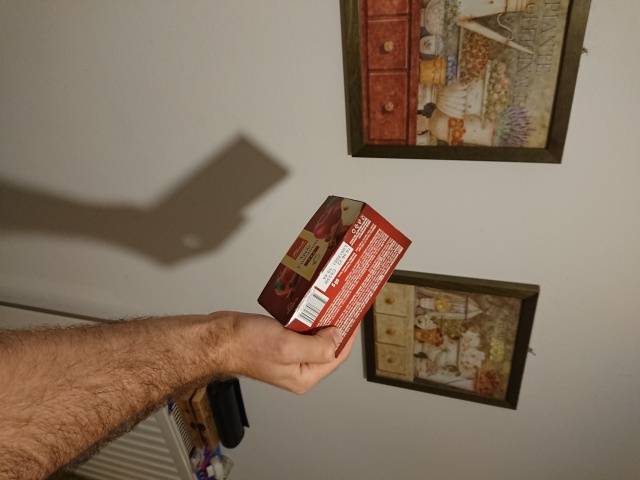Franck Apple Cinnamon Tea 60g: (253, 192, 415, 360)
